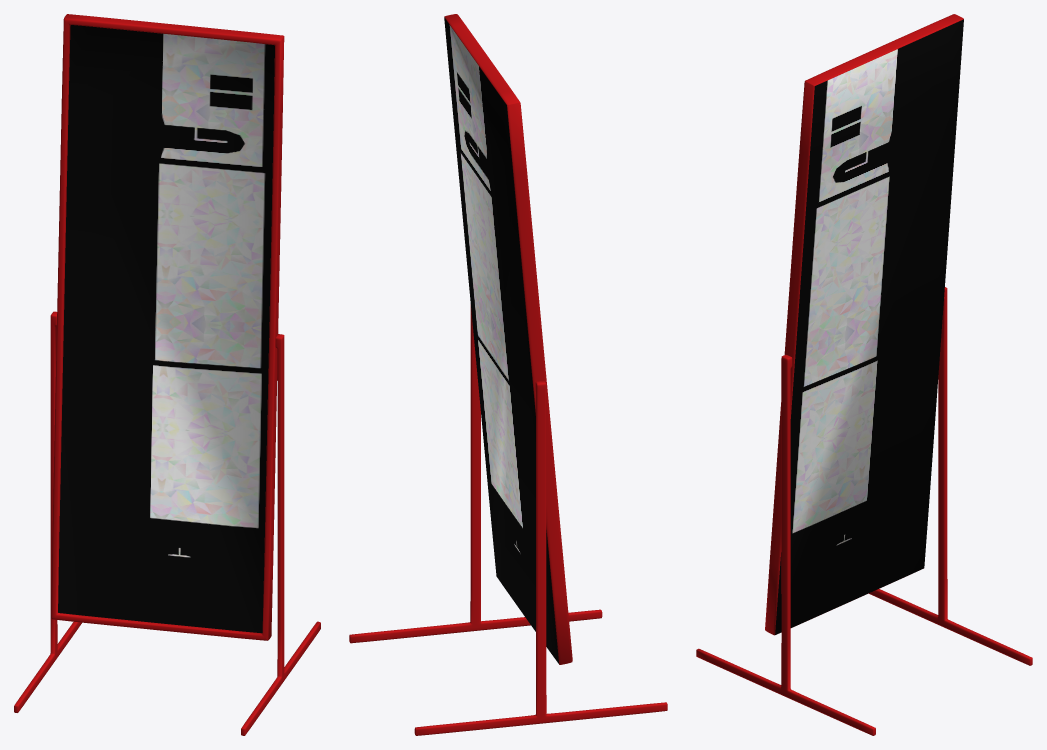
The model's file is k_ayna.obj.
3 views of the same model, side by side, from view 1: azimuth 30°, elevation 25°; view 2: azimuth 150°, elevation 25°; view 3: azimuth 270°, elevation 25° (orthographic). The views are drawn at different scales.
Parts seen in each view (by area): view 1: Box009.018_wall_pembe, Box009.018_m_red; view 2: Box009.018_wall_pembe, Box009.018_m_red; view 3: Box009.018_wall_pembe, Box009.018_m_red.
Boxes of the visible parts, <box> form: Box009.018_wall_pembe: <box>58,25,274,633</box>; Box009.018_m_red: <box>14,14,320,735</box>; Box009.018_wall_pembe: <box>444,17,559,664</box>; Box009.018_m_red: <box>349,14,667,735</box>; Box009.018_wall_pembe: <box>775,19,963,634</box>; Box009.018_m_red: <box>696,14,1032,735</box>.
Size of the model in its own units: 12.02 by 23.09 by 11.35.
